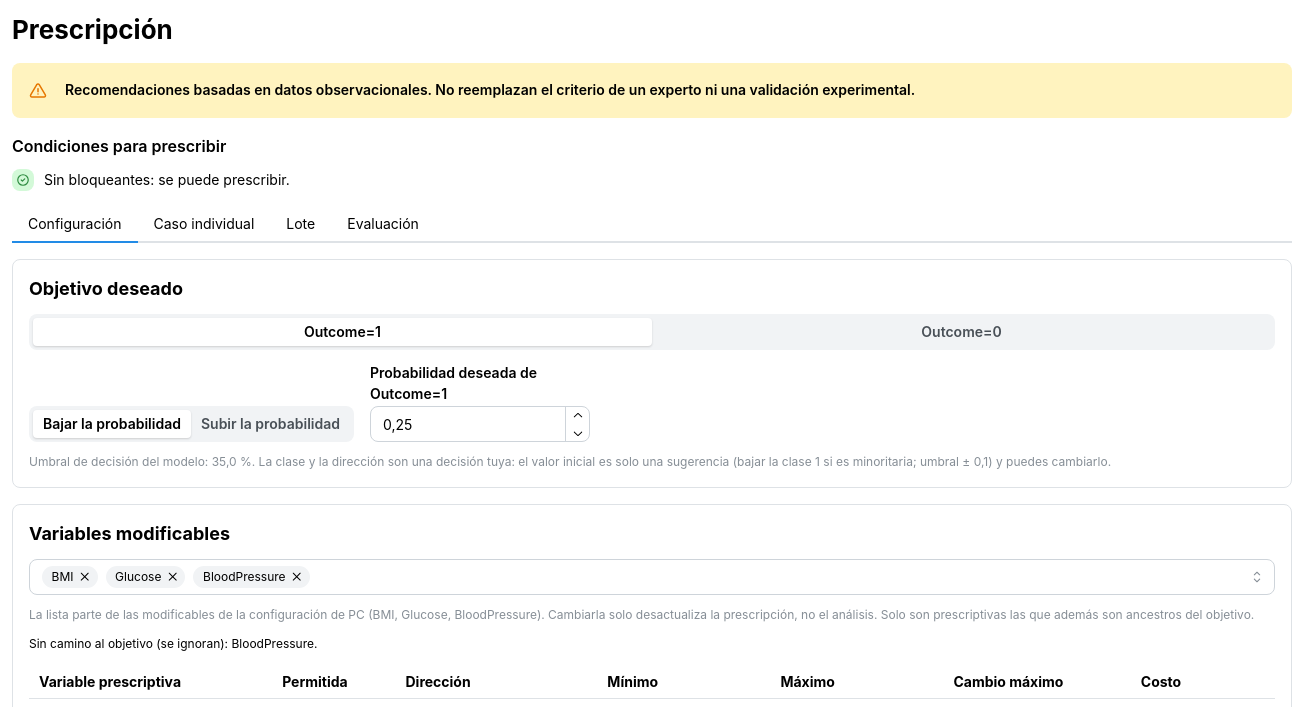
Test: Prescripción: pantalla › lote: tabla filtrable por estado
Click the tab "Lote" at (301, 225), box [270,207,331,243]
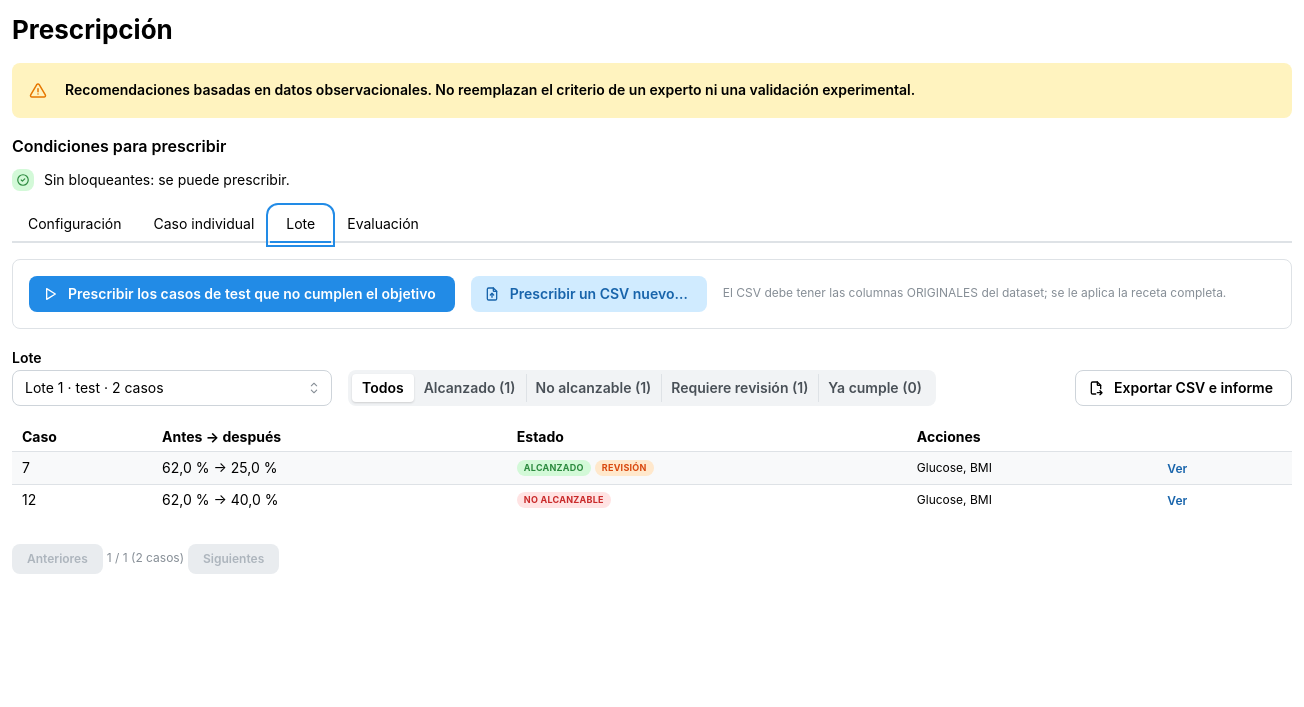
Expected: the number of rows is 3, [12,422,1292,452]; [12,452,1292,484]; [12,484,1292,516]
Click the text "No alcanzable (1)" at (593, 388), box [536,379,651,396]
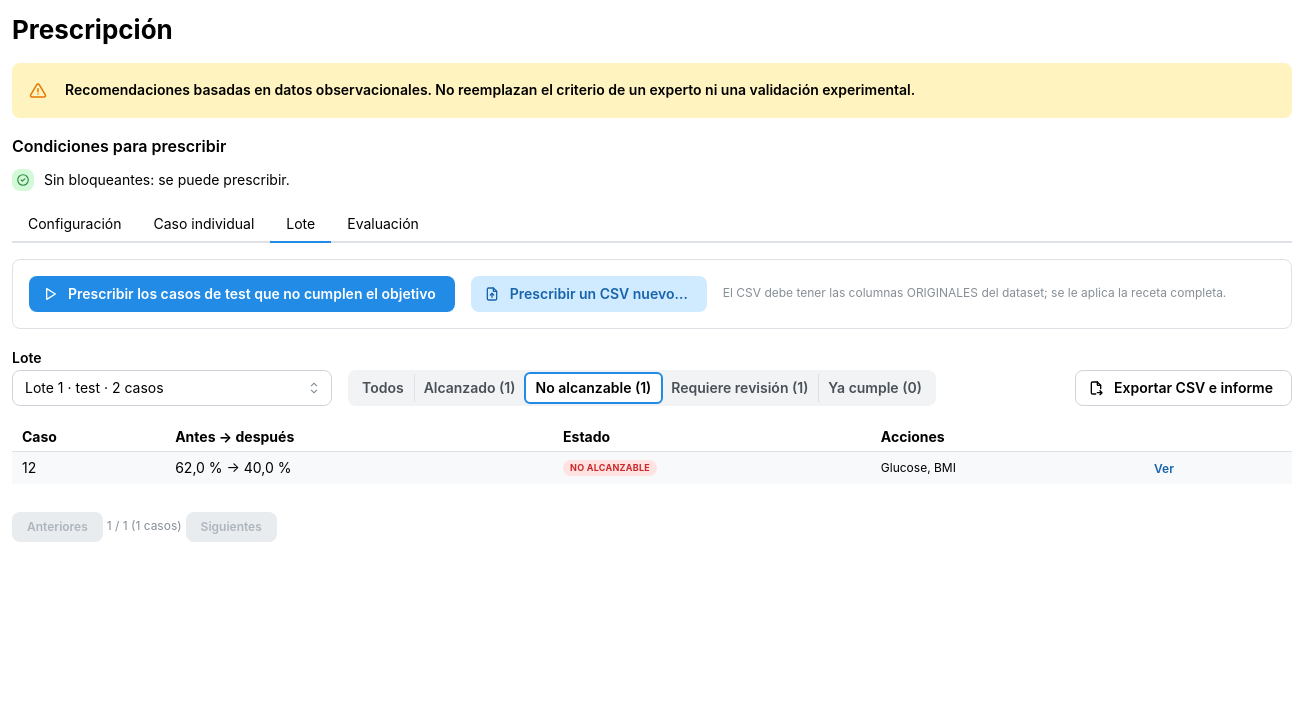
Expected: the number of rows is 2, [12,422,1292,452]; [12,452,1292,484]
